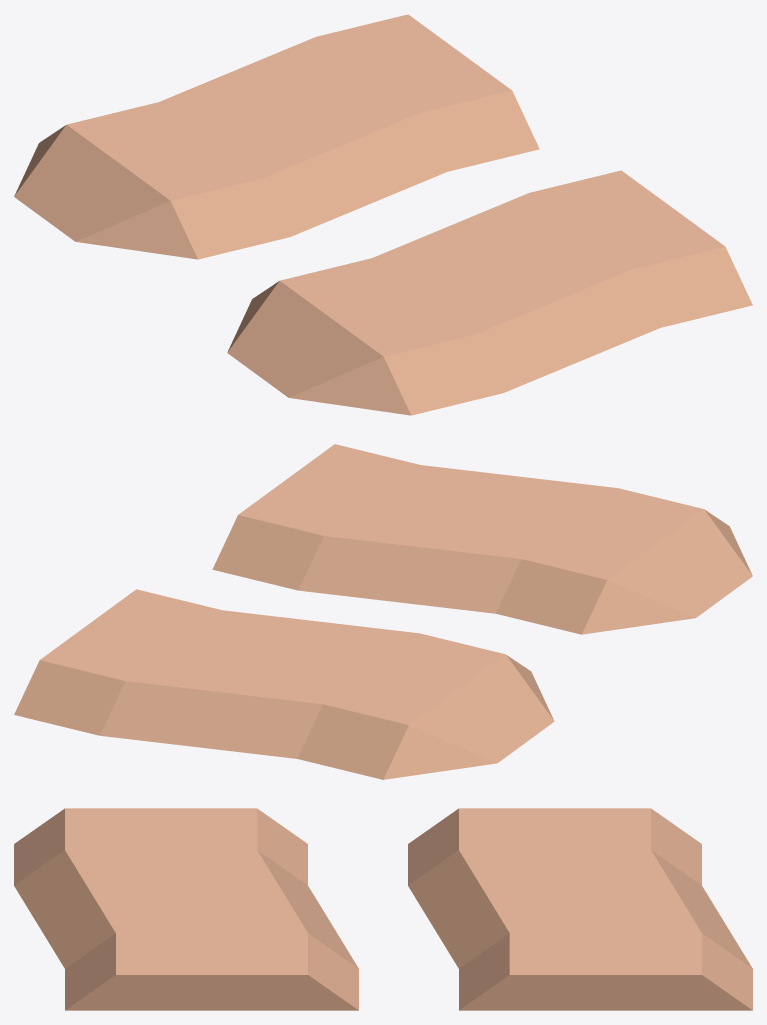
Rendered from crops_dirtDoubleRowEnd.glb.
3 views of the same model, one above another, from view 1: azimuth 30°, elevation 25°; view 2: azimuth 150°, elevation 25°; view 3: azimuth 270°, elevation 25° (orthographic). The views are drawn at different scales.
Visible parts, largest first — view 1: crops_dirtDoubleRowEnd; view 2: crops_dirtDoubleRowEnd; view 3: crops_dirtDoubleRowEnd.
Part boxes in pixels (x1,y1,x2,y2): crops_dirtDoubleRowEnd: (14,14,752,415); crops_dirtDoubleRowEnd: (14,444,752,779); crops_dirtDoubleRowEnd: (14,808,752,1010).
Size of the model in its own units: 0.6 by 0.05 by 0.938.
